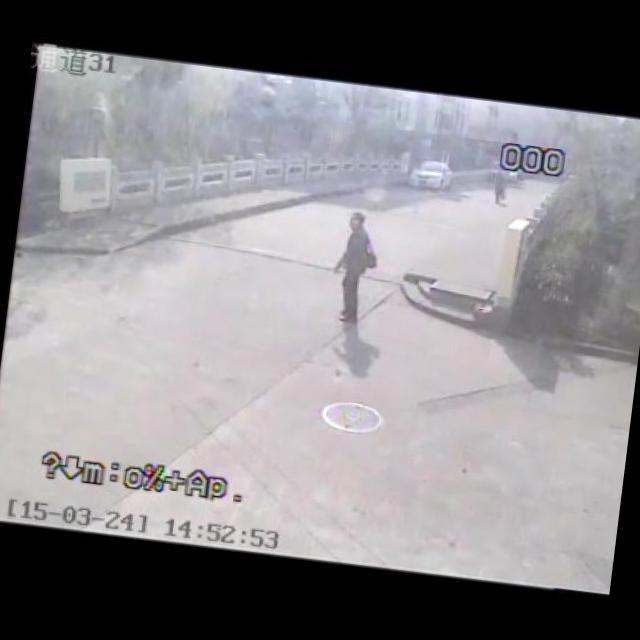person: (322, 207, 384, 327), (488, 168, 512, 205)
